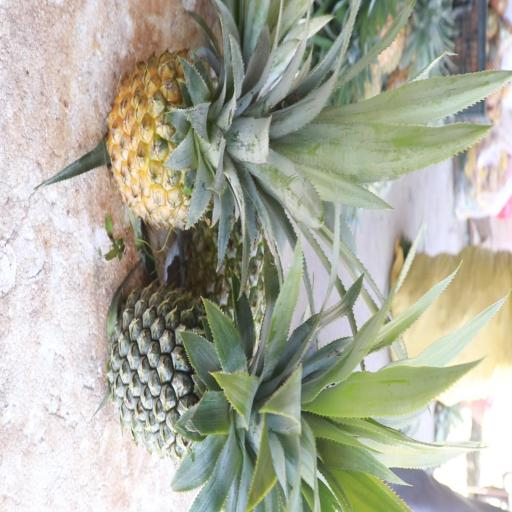Pineapple - v8 v1: (98, 38, 358, 239)
